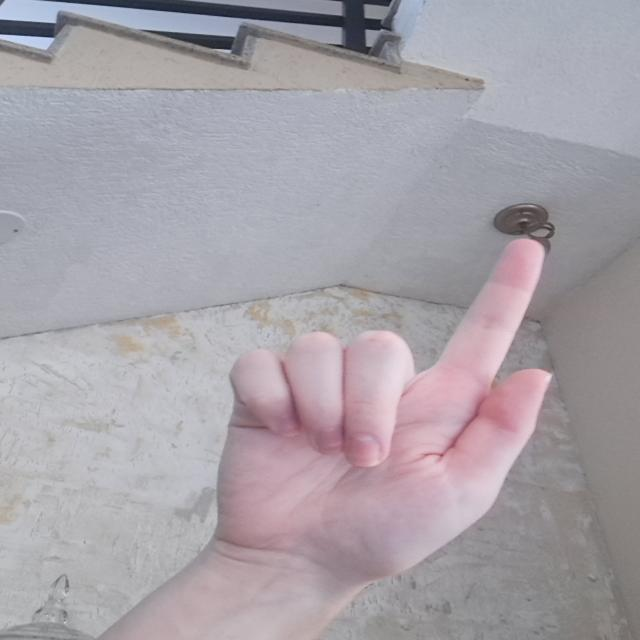G: (209, 213, 567, 574)
